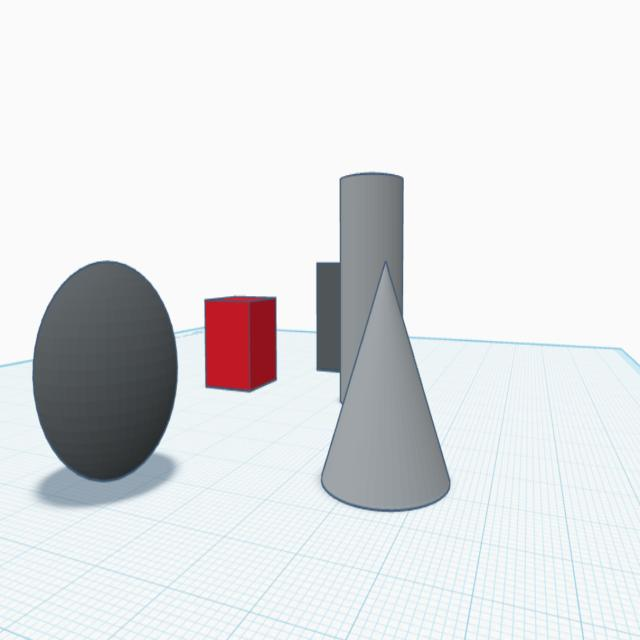cone: (318, 257, 452, 515)
cube: (202, 289, 279, 395)
sphere: (30, 258, 180, 486)
